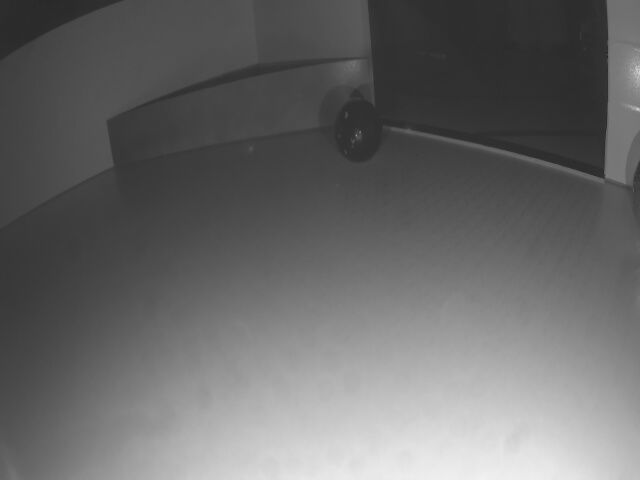Dead: (335, 103, 385, 162)
Green: (105, 56, 370, 169)
